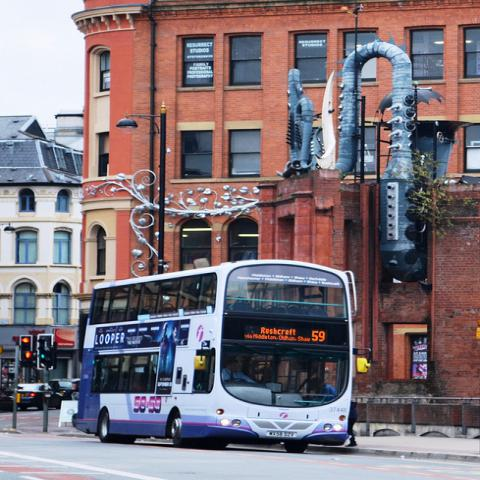bus: (76, 260, 374, 454)
car: (18, 383, 63, 411), (48, 378, 81, 401), (0, 388, 14, 413)
